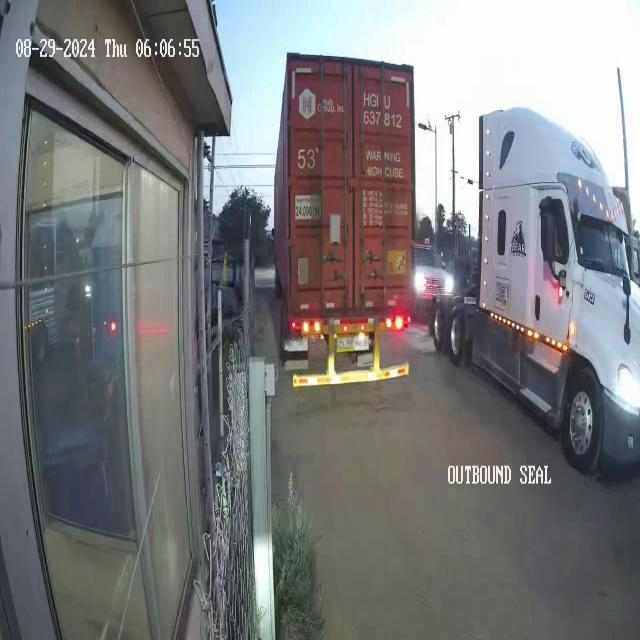TRUCK_IN: (431, 101, 640, 473)
TRUCK_OUT: (270, 52, 416, 398)
